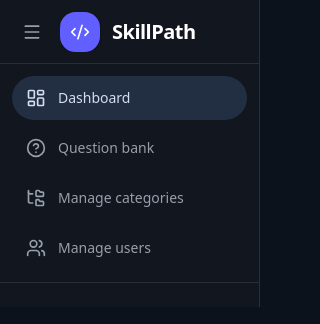
Test case: AdminSidebar › hides the labels when collapsed
The width and height of the screenshot is (320, 324).
Expected: the text "Manage users" is shown, [58,238,151,258]
Click the button named "Toggle sidebar". click: (32, 32)
box: [12,12,52,52]
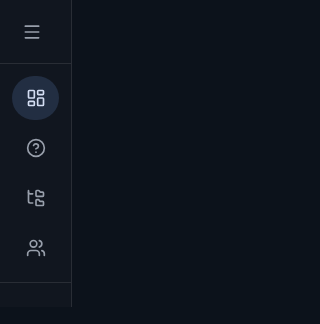
Result: the text "Manage users" is gone
Result: the text "SkillPath" is gone
